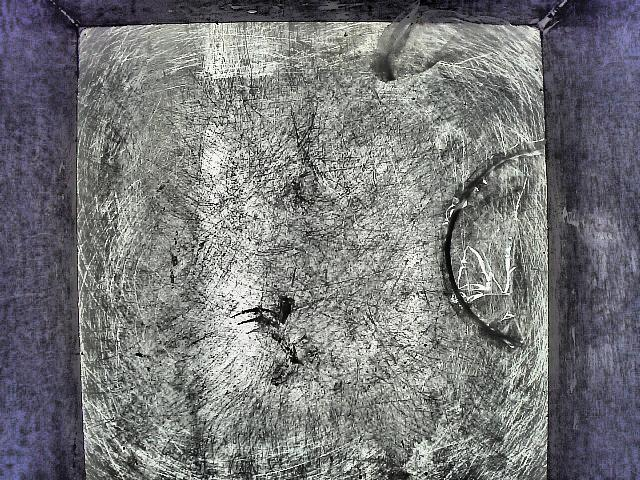Plastic: (416, 131, 538, 363), (362, 17, 539, 74)
